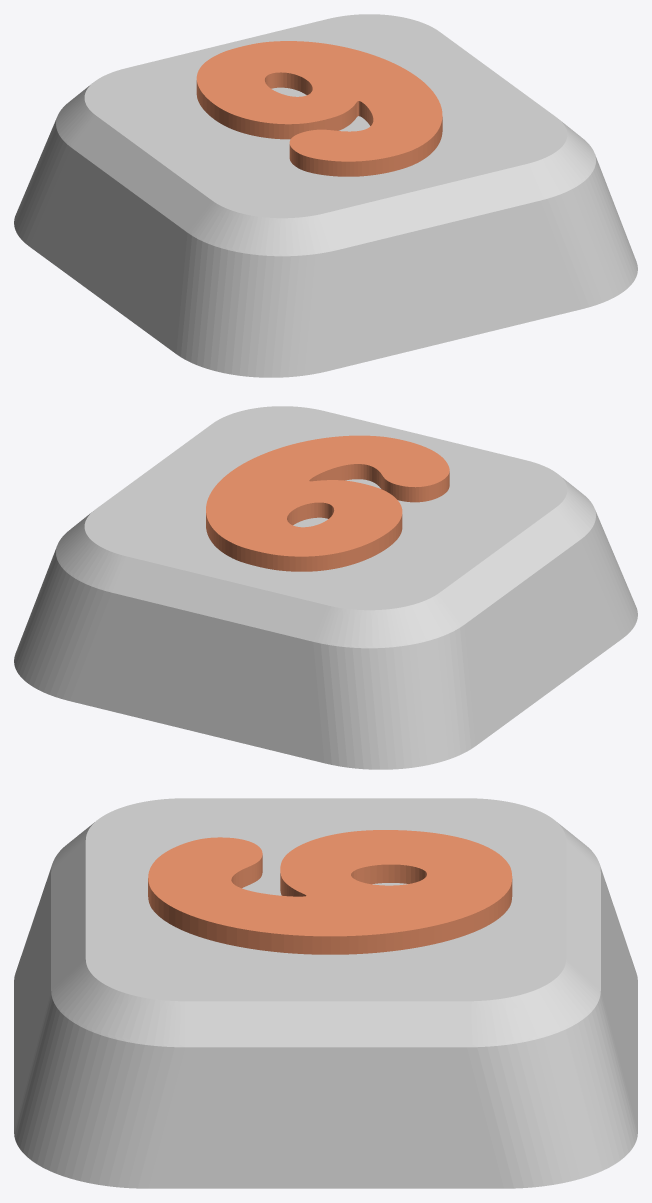
The model's file is cap-9.glb.
3 renders of one model, top to bottom at view 1: azimuth 30°, elevation 25°; view 2: azimuth 150°, elevation 25°; view 3: azimuth 270°, elevation 25°, orthographic. The views are drawn at different scales.
Parts seen in each view (by area): view 1: cap_0, glyph_1; view 2: cap_0, glyph_1; view 3: cap_0, glyph_1.
Boxes of the visible parts, x1,y1,x2,y2 form: cap_0: (14, 14, 637, 377); glyph_1: (196, 41, 442, 176); cap_0: (14, 406, 637, 769); glyph_1: (206, 435, 449, 571); cap_0: (14, 798, 637, 1188); glyph_1: (148, 830, 512, 954).
Size of the model in its own units: 18 by 5.59 by 18.
